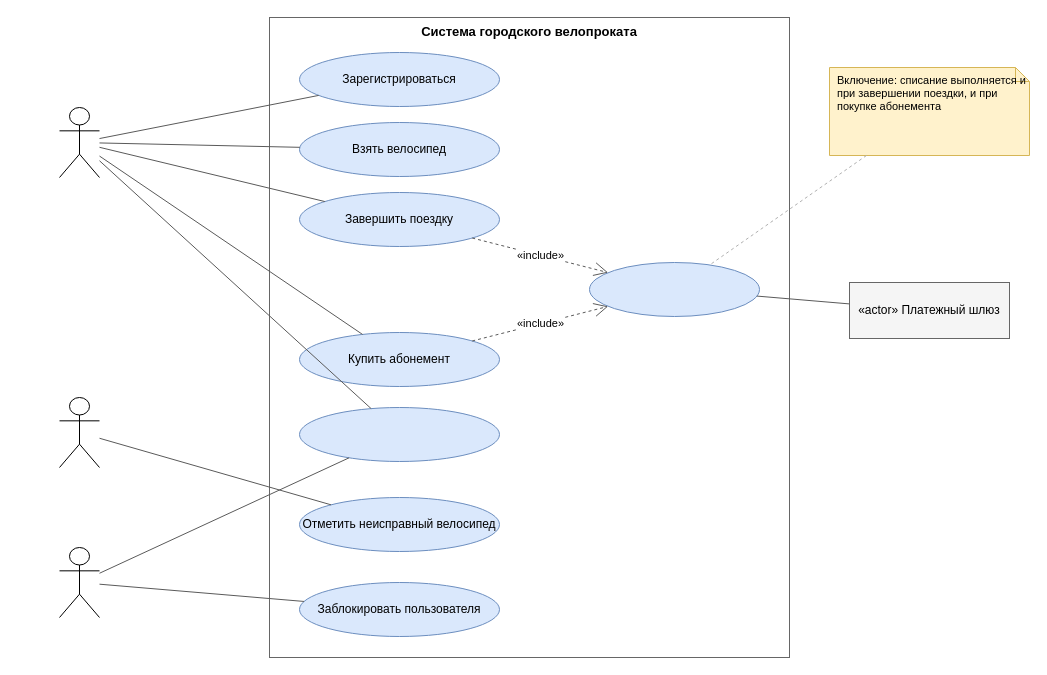
This 1047x675 diagram has some shape labels left out. Here are the shapes that lost their labels. From the top down, the centre of each, then its label:
At pixel 79 142: "Пользователь проката".
At pixel 674 289: "Списать оплату".
At pixel 79 432: "Оператор станции".
At pixel 399 434: "Посмотреть историю поездок".
At pixel 79 582: "Служба поддержки".
